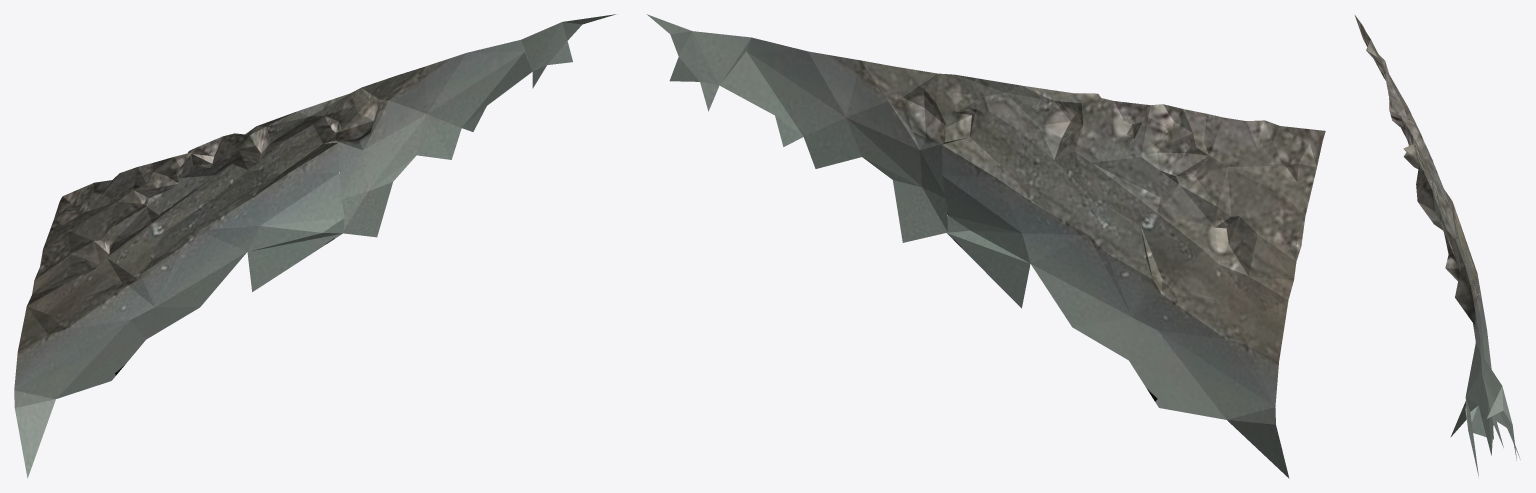
File: Tile_+002_+000.gltf
3 views of the same model, side by side, from view 1: azimuth 30°, elevation 25°; view 2: azimuth 150°, elevation 25°; view 3: azimuth 270°, elevation 25° (orthographic). The views are drawn at different scales.
Parts seen in each view (by area): view 1: default; view 2: default; view 3: default.
Boxes of the visible parts, x1,y1,x2,y2 form: default: (14, 14, 615, 478); default: (646, 14, 1325, 478); default: (1355, 15, 1520, 476).
Bounding box in the file's own units: 29.32 × 14.31 × 5.11.
2 materials, 2 textured.
